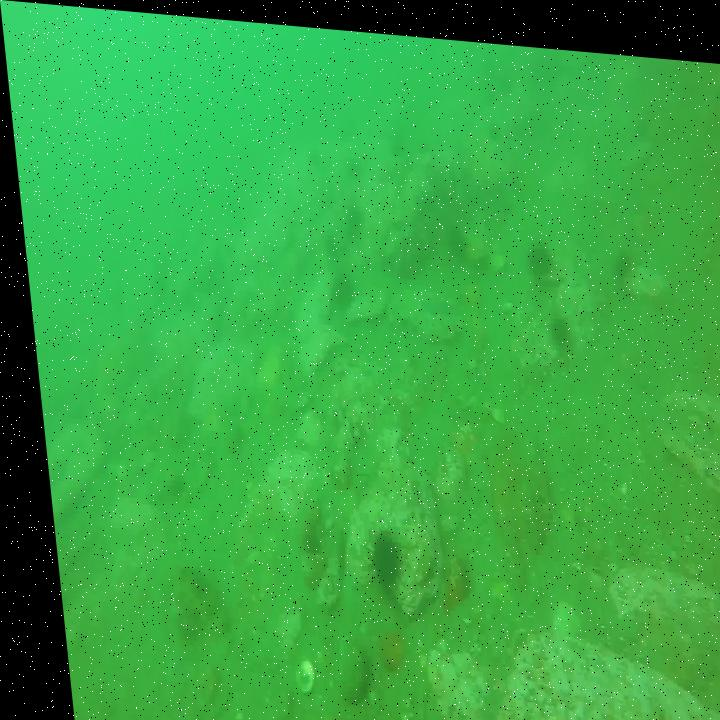echinus: (359, 524, 393, 582), (545, 306, 570, 347), (522, 233, 547, 268), (327, 264, 350, 301), (606, 238, 630, 267)
